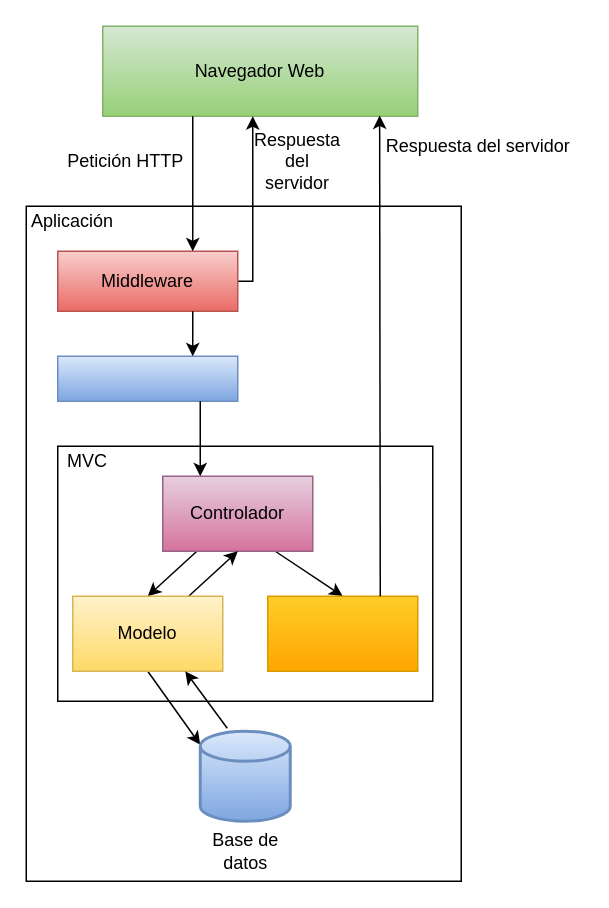
The diagram is 609 pixels wide and 908 high, and some of its shapes have lost their labels. Each missing label, with the centre of its shape:
Enrutador: the point at 147,378
Vista: the point at 342,633
